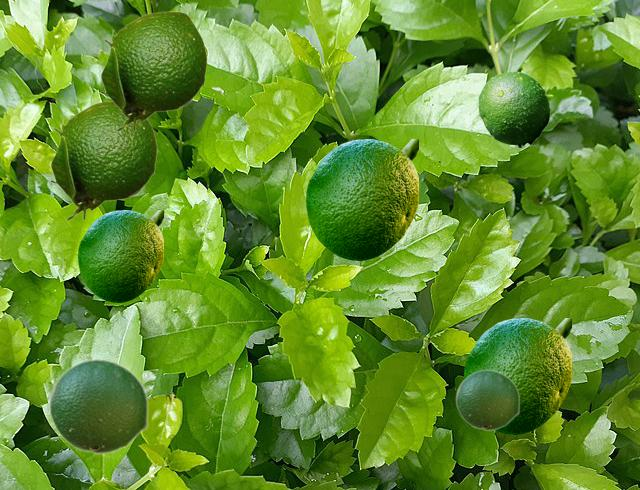dalandan: (306, 139, 417, 259), (49, 100, 156, 220), (99, 11, 206, 131), (464, 318, 570, 433), (48, 358, 148, 454), (78, 210, 162, 301), (478, 71, 552, 147), (455, 369, 519, 430)
